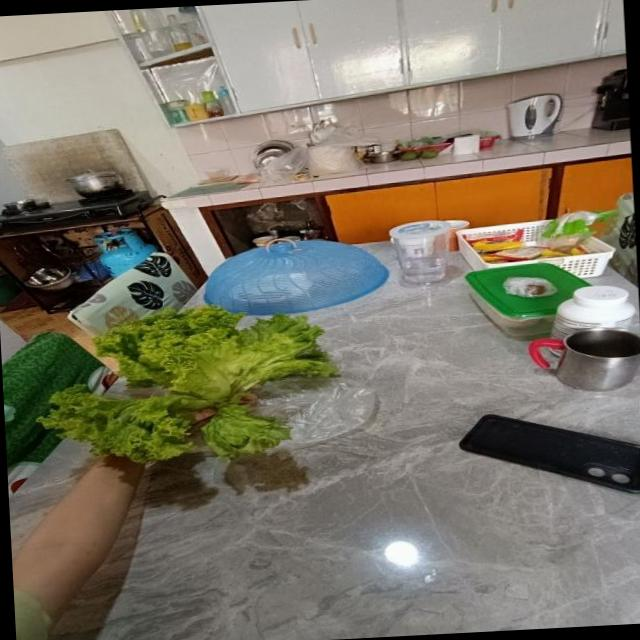Lettuce-Ready-to-Harvest: (96, 306, 338, 406)
